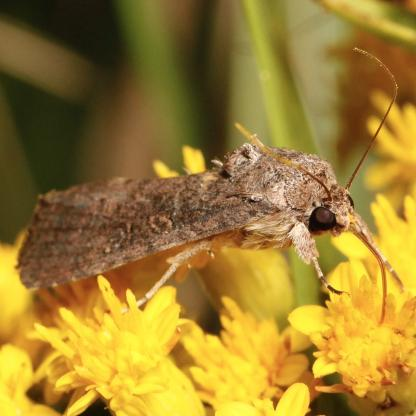Fall Armyworm Moth: (11, 44, 409, 328)
